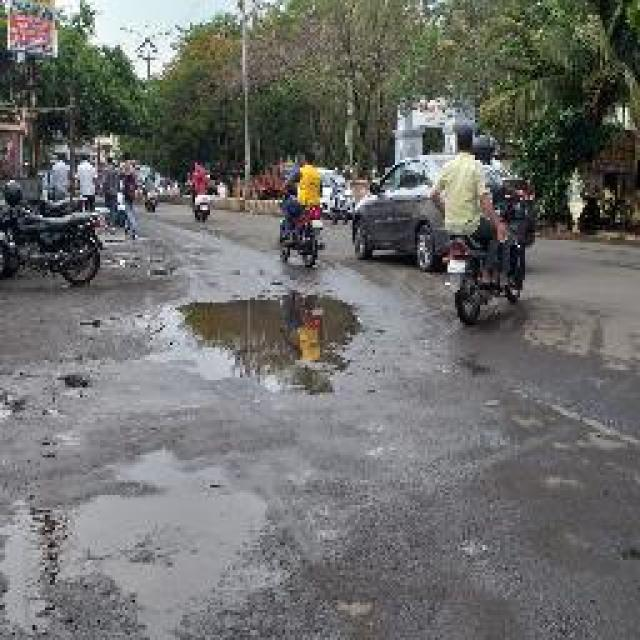puddle: (174, 288, 369, 400)
